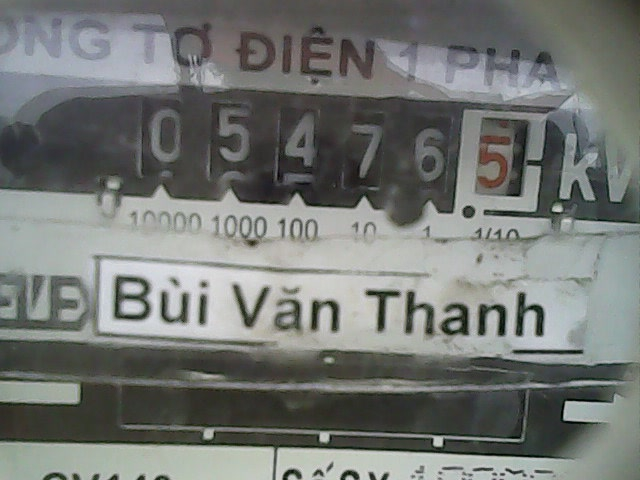phy_plate: (123, 82, 549, 217)
